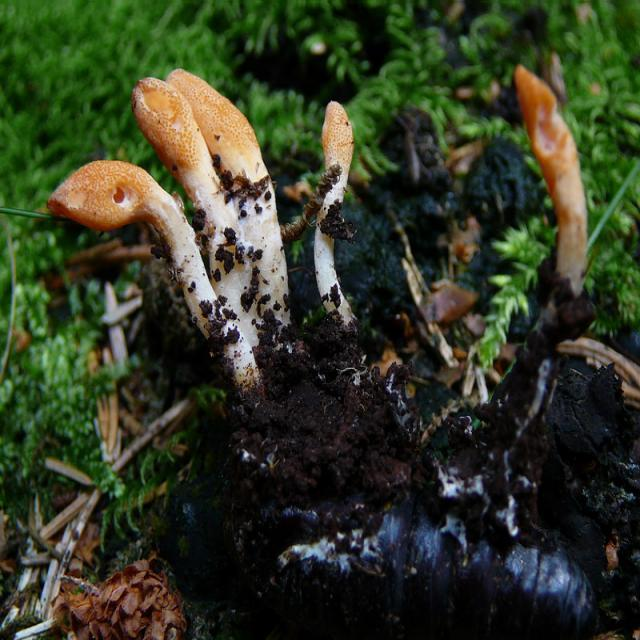Cordyceps militaris: (53, 162, 258, 388), (136, 69, 291, 338), (514, 60, 588, 301), (315, 95, 357, 317)
